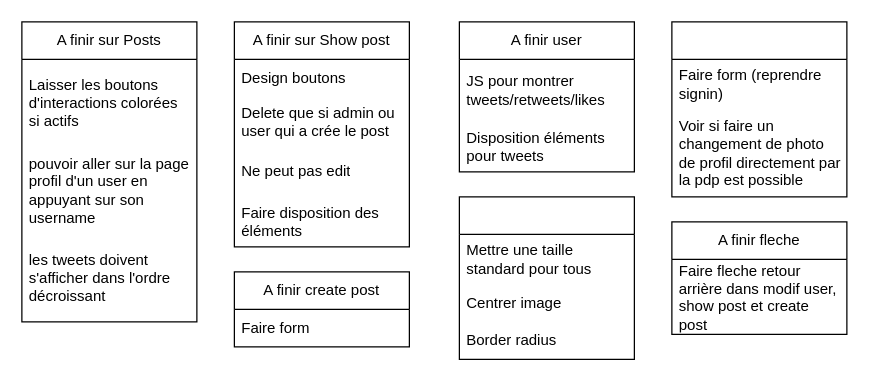
The diagram is 869 pixels wide and 381 high, and some of its shapes have lost their labels. The shapes that lost their labels are listed below. From the top down, each one's box as (x1, y1, x2, y2) in pixels, then its label:
(671, 21, 847, 197): A finir modif user
(458, 196, 634, 359): A finir pdp
